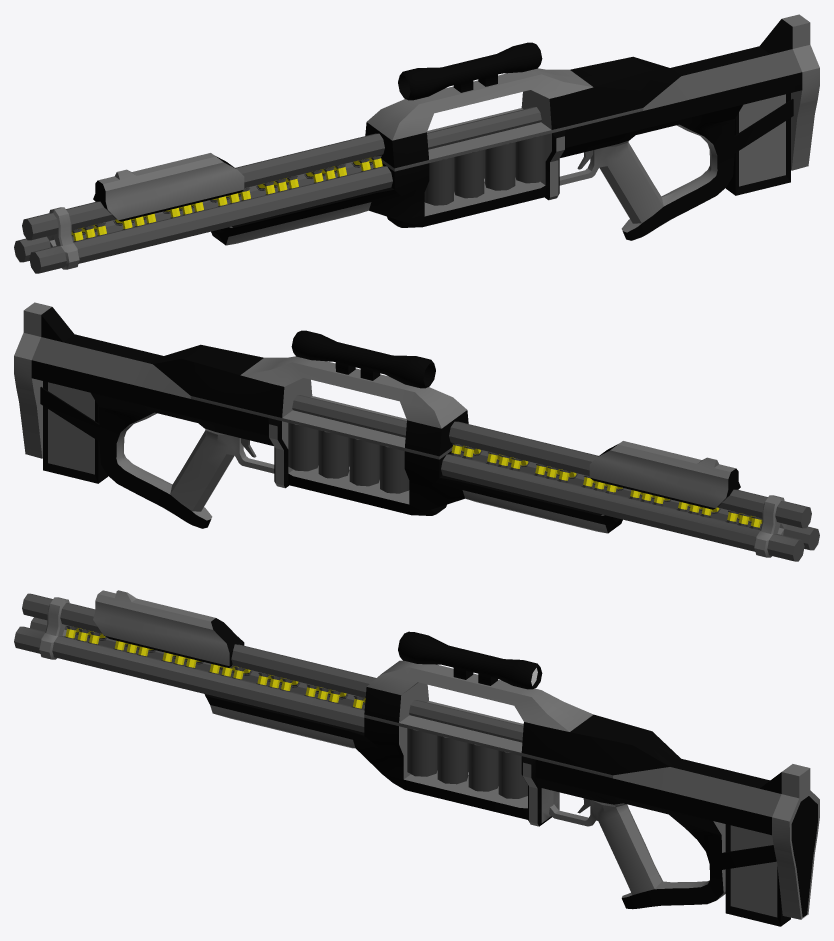
Rendered from RailGunSniperRiffle.fbx.
3 views of the same model, one above another, from view 1: azimuth 30°, elevation 25°; view 2: azimuth 150°, elevation 25°; view 3: azimuth 330°, elevation 25° (orthographic).
Parts seen in each view (by area): view 1: Cylinder, Cylinder.001, Cube, Cylinder.003, Cylinder.002, Cylinder.004; view 2: Cylinder, Cylinder.001, Cube, Cylinder.003, Cylinder.004, Cylinder.002; view 3: Cylinder, Cylinder.001, Cube, Cylinder.003, Cylinder.002.
Boxes of the visible parts, x1=… form: Cylinder: x1=14, y1=14, x2=819, y2=273; Cylinder.001: x1=424, y1=135, x2=545, y2=205; Cube: x1=725, y1=93, x2=790, y2=195; Cylinder.003: x1=398, y1=42, x2=542, y2=100; Cylinder.002: x1=71, y1=155, x2=383, y2=241; Cylinder.004: x1=71, y1=156, x2=373, y2=236; Cylinder: x1=14, y1=302, x2=819, y2=561; Cylinder.001: x1=288, y1=423, x2=409, y2=493; Cube: x1=43, y1=381, x2=108, y2=483; Cylinder.003: x1=291, y1=330, x2=435, y2=388; Cylinder.004: x1=450, y1=443, x2=762, y2=529; Cylinder.002: x1=461, y1=445, x2=762, y2=524; Cylinder: x1=14, y1=590, x2=819, y2=919; Cylinder.001: x1=407, y1=728, x2=527, y2=798; Cube: x1=725, y1=824, x2=790, y2=926; Cylinder.003: x1=398, y1=631, x2=542, y2=689; Cylinder.002: x1=64, y1=626, x2=364, y2=710.
Bounding box in the file's own units: 807 × 219 × 60.03.
